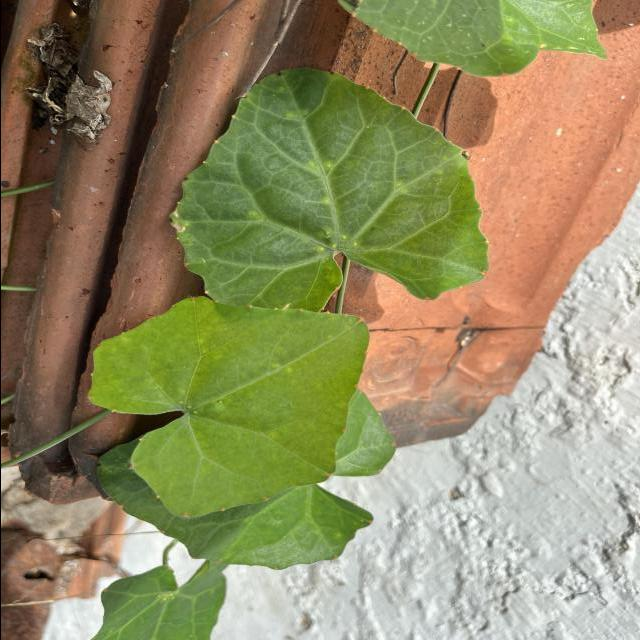Coccinia grandis: (165, 65, 490, 313), (83, 294, 370, 520)
